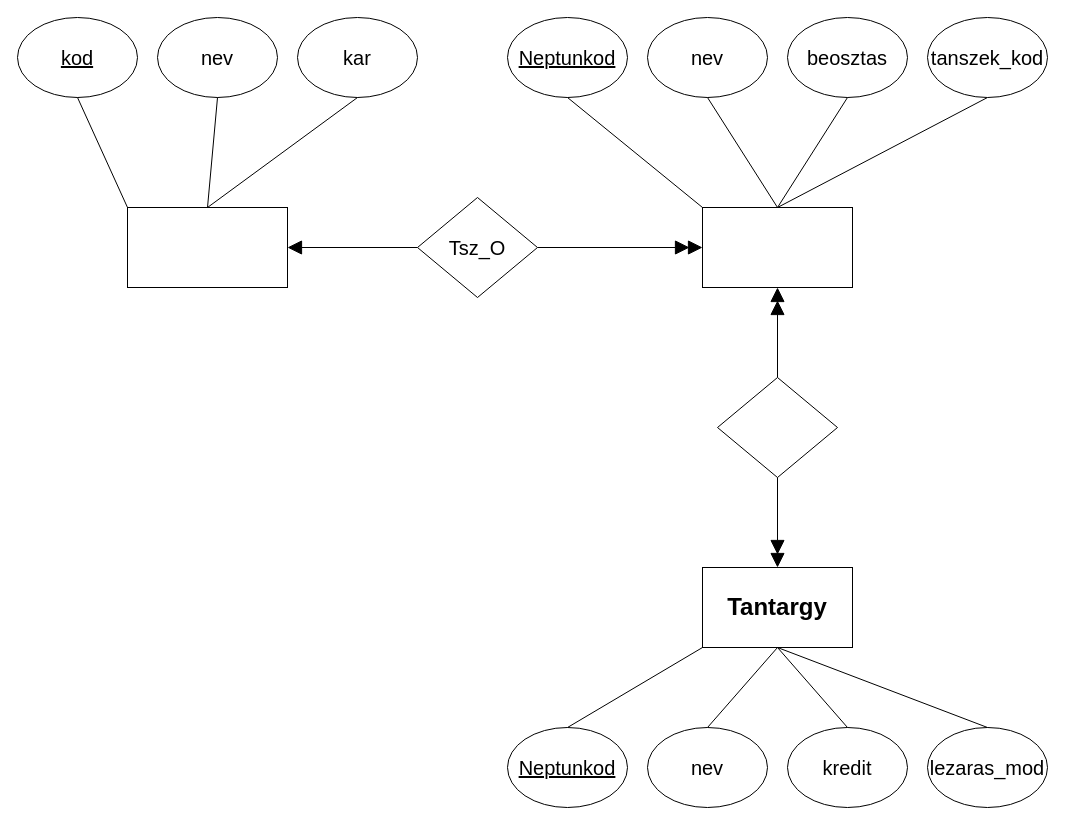
Some shapes in this 1065 by 825 pixel diagram are drawn without their labels. The centre of each missing label's shape, as x and y in pixels:
"O_Ta" belongs at point 777,427.
"Oktato" belongs at point 777,247.
"Tanszek" belongs at point 207,247.
